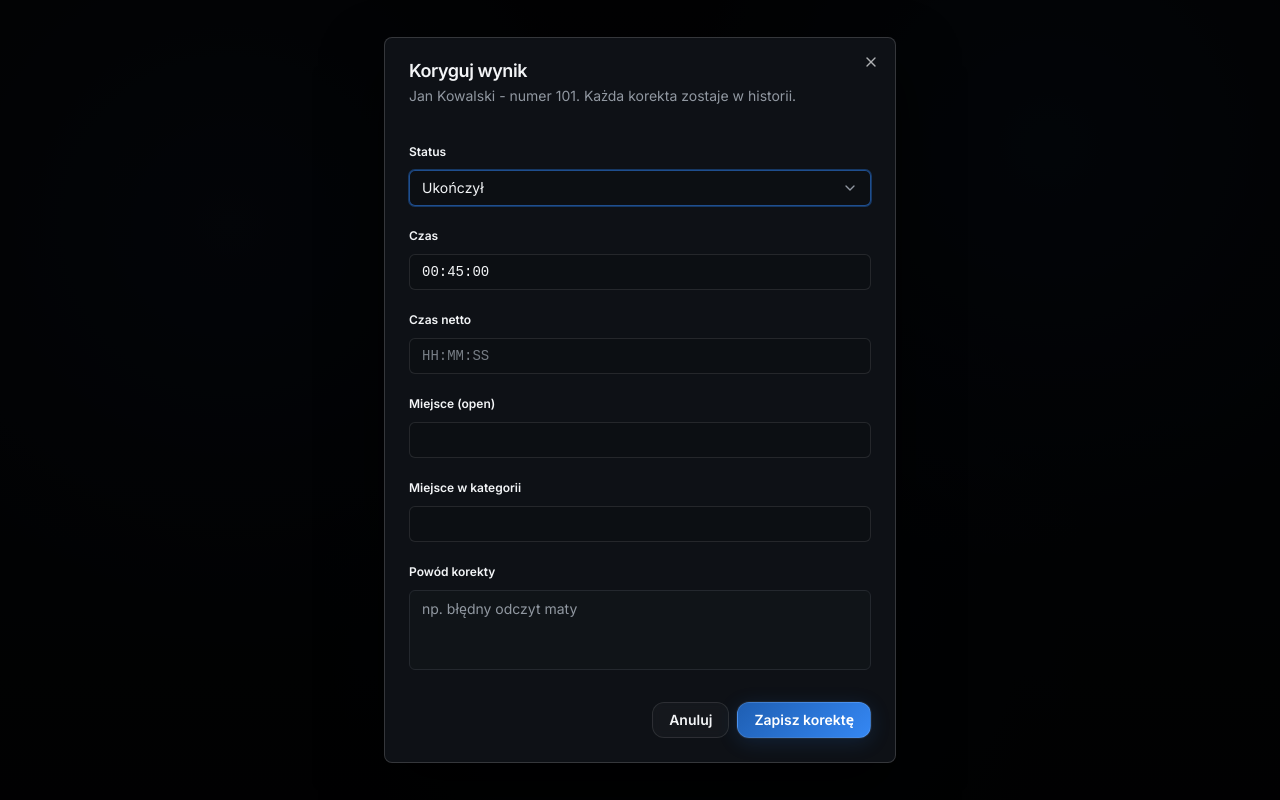
it: EditResultDialog › requires a reason once the results are official
Click the button "Zapisz korektę". click: (804, 720)
box: [737,702,871,738]
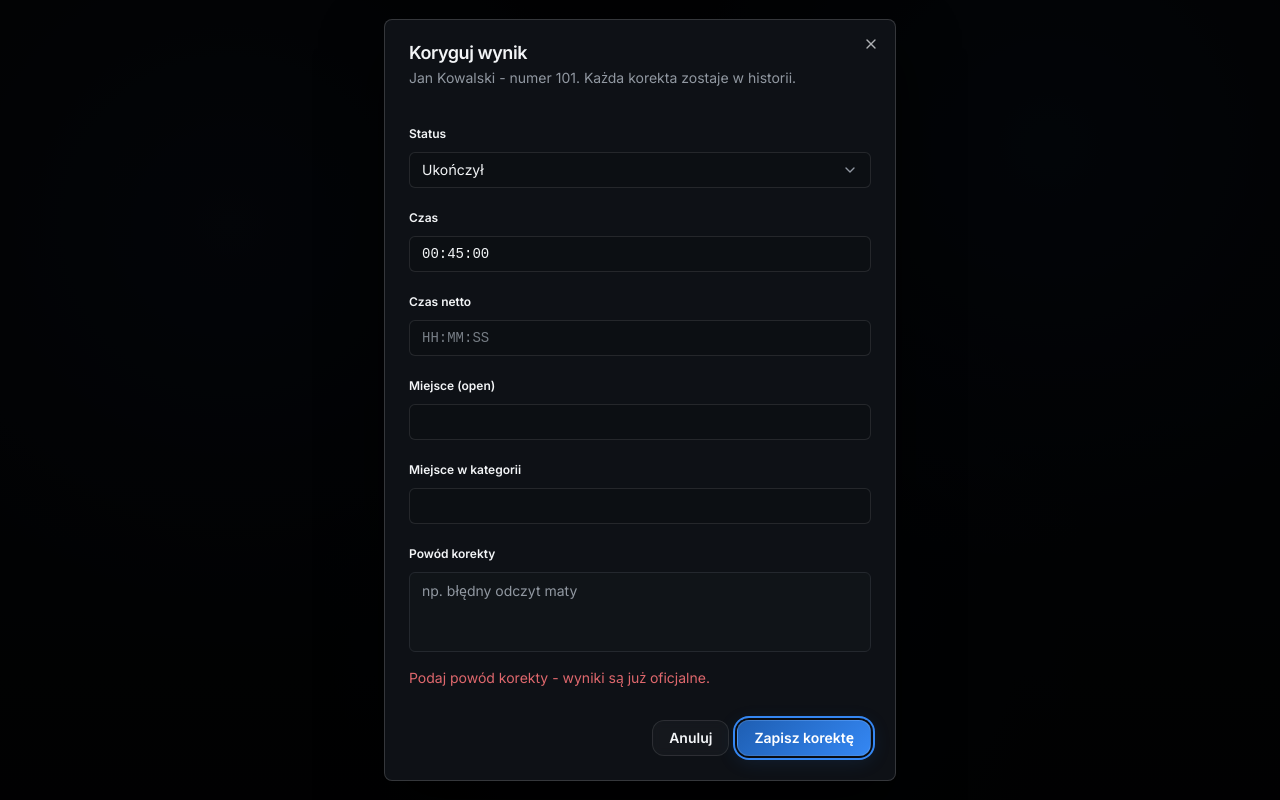
Now the text "Podaj powód korekty - wyniki są już oficjalne." is shown, box [409,669,710,686]
